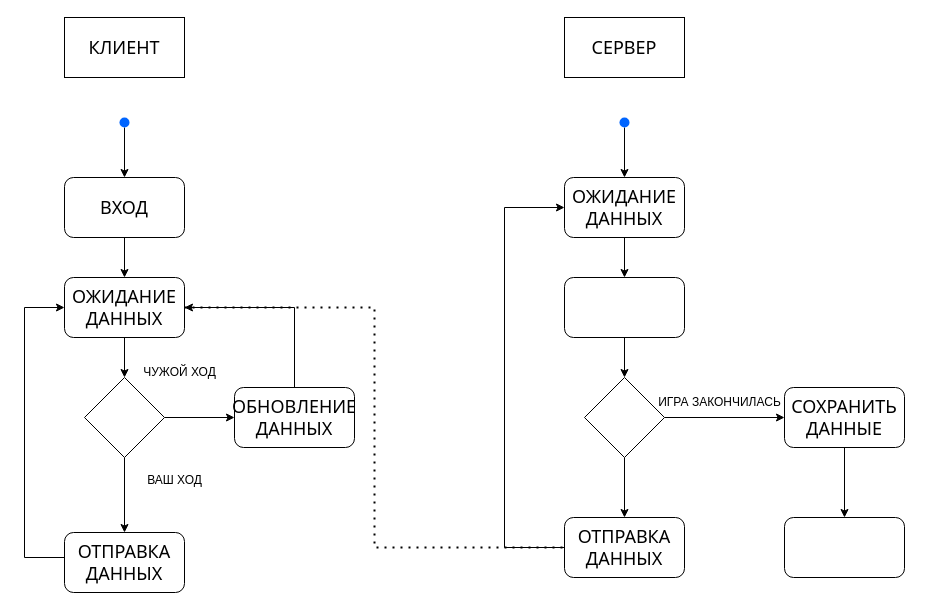
Some shapes in this 925 by 610 pixel diagram are drawn without their labels. The box of each missing label's shape, as (x1, y1, x2, y2) in pixels:
ЗАКРЫТЬ МАССИВ СОЕДИНЕНИЙ: (784, 516, 904, 578)
ОБРАТБОТКА ДАННЫХ: (564, 276, 684, 338)
